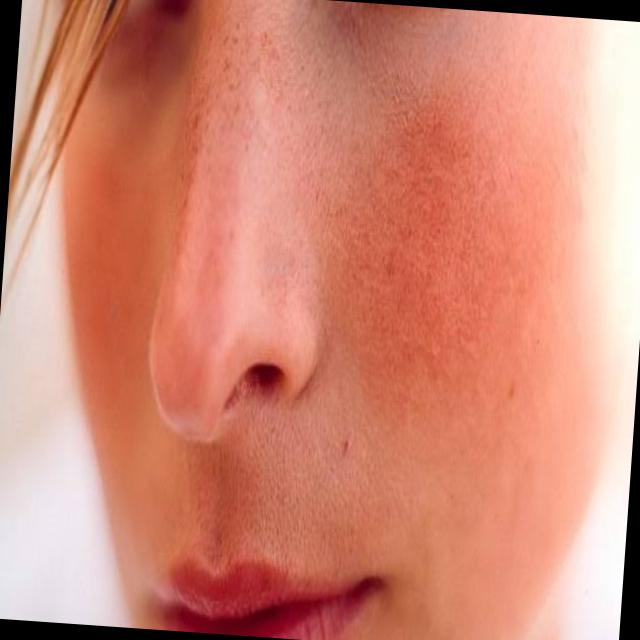redness: (324, 92, 525, 420)
